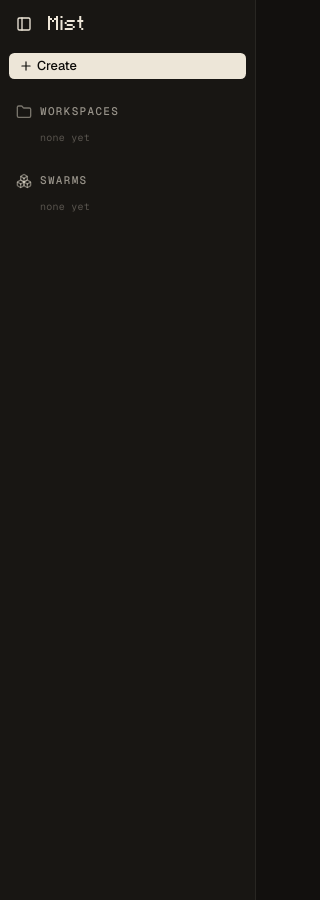
Test case: AppSidebar › keeps section rows stable while their submenus appear
The image size is (320, 900).
expect the list item "Workspaces" is shown: met, box [8,96,247,149]
expect the list item "Swarms" is shown: met, box [8,165,247,218]
Click the button "Create". click: click(128, 66)
box: [8,52,247,80]
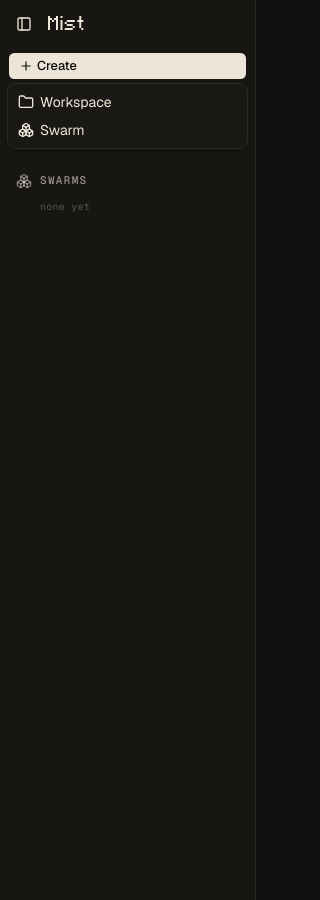
Click the menu item "Workspace". click: click(65, 102)
box: [18,93,112,111]
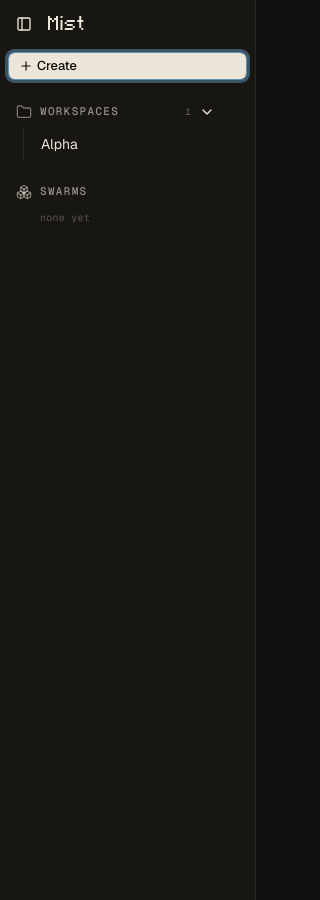
expect the icon with class "lucide-chevron-right" is shown: met, box [199,104,215,120]
expect the list "Alpha" is shown: met, box [23,128,234,160]
expect the list item "Alpha" is shown: met, box [33,130,86,158]
Click the button with aria-label "Toggle Workspaces". click: click(128, 112)
box: [8,96,247,128]
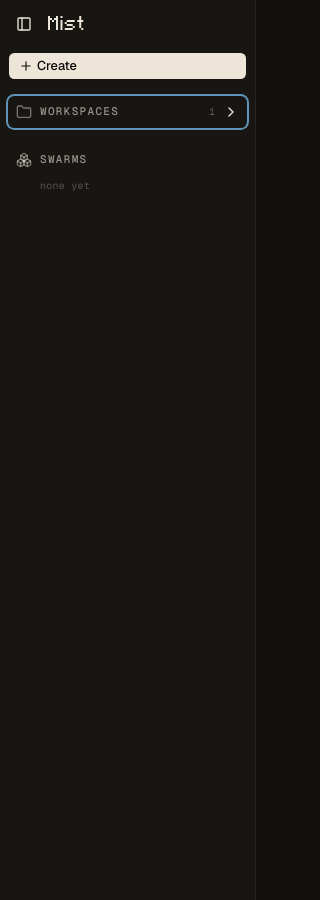
expect the button "Alpha" is gone: met
